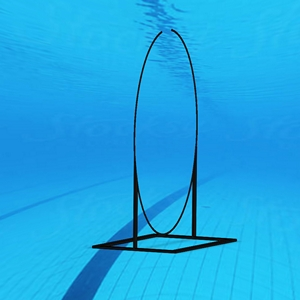circle: (91, 26, 240, 258)
